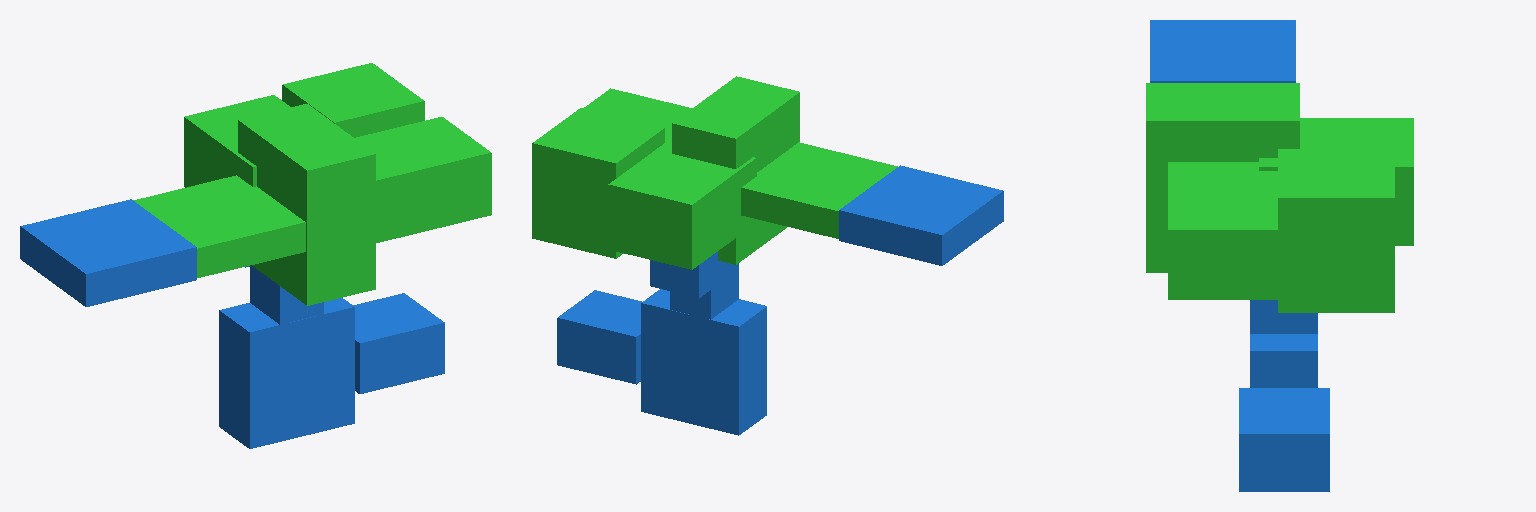
The robot description file, URDF, robot "robot":
<robot name = "robot">
    <link name="Link0">
        <inertial>
            <origin xyz="0 0 2" rpy="0 0 0"/>
            <mass value="0.3253856359606199" />
            <inertia ixx="100" ixy="0" ixz="0" iyy="100" iyz="0" izz="100" />
        </inertial>
        <visual>
            <origin xyz="0 0 2" rpy="0 0 0"/>
            <geometry>
                <box size="1.0353319258563585 1.0608198336998864 0.2962628115581868" />
            </geometry>
            <material name="No Sensor">
                <color rgba="0.184 0.553 0.933 1.0"/>
            </material>
        </visual>
        <collision>
            <origin xyz="0 0 2" rpy="0 0 0"/>
            <geometry>
                <box size="1.0353319258563585 1.0608198336998864 0.2962628115581868" />
            </geometry>
        </collision>
    </link>
    <joint name="Link0_Link1" type="revolute">
       <parent link="Link0"/>
       <child  link="Link1"/>
       <origin rpy="0 0 0" xyz="0.5176659629281792 0 2" />
       <axis xyz="1 0 0"/>
       <limit effort="0.0" lower="-3.14159" upper="3.14159" velocity="0.0"/>
    </joint>
    <link name="Link1">
        <inertial>
            <origin xyz="0.5082244999873465 0 0" rpy="0 0 0"/>
            <mass value="0.2857987086466223" />
            <inertia ixx="100" ixy="0" ixz="0" iyy="100" iyz="0" izz="100" />
        </inertial>
        <visual>
            <origin xyz="0.5082244999873465 0 0" rpy="0 0 0"/>
            <geometry>
                <box size="1.016448999974693 1.0568465468383037 0.2660496773040639" />
            </geometry>
            <material name="Sensor">
                <color rgba="0.239 0.875 0.282 1.0"/>
            </material>
        </visual>
        <collision>
            <origin xyz="0.5082244999873465 0 0" rpy="0 0 0"/>
            <geometry>
                <box size="1.016448999974693 1.0568465468383037 0.2660496773040639" />
            </geometry>
        </collision>
    </link>
    <joint name="Link1_Link2" type="revolute">
       <parent link="Link1"/>
       <child  link="Link2"/>
       <origin rpy="0 0 0" xyz="1.016448999974693 0.0 0.0" />
       <axis xyz="0 1 0"/>
       <limit effort="0.0" lower="-3.14159" upper="3.14159" velocity="0.0"/>
    </joint>
    <link name="Link2">
        <inertial>
            <origin xyz="0.3206639671788665 0.0 0.0" rpy="0 0 0"/>
            <mass value="0.8646040706727207" />
            <inertia ixx="100" ixy="0" ixz="0" iyy="100" iyz="0" izz="100" />
        </inertial>
        <visual>
            <origin xyz="0.3206639671788665 0.0 0.0" rpy="0 0 0"/>
            <geometry>
                <box size="0.641327934357733 1.1155770717294295 1.208474634949778" />
            </geometry>
            <material name="Sensor">
                <color rgba="0.239 0.875 0.282 1.0"/>
            </material>
        </visual>
        <collision>
            <origin xyz="0.3206639671788665 0.0 0.0" rpy="0 0 0"/>
            <geometry>
                <box size="0.641327934357733 1.1155770717294295 1.208474634949778" />
            </geometry>
        </collision>
    </link>
    <joint name="Link2_Link3" type="revolute">
       <parent link="Link2"/>
       <child  link="Link3"/>
       <origin rpy="0 0 0" xyz="0.641327934357733 0.0 0.0" />
       <axis xyz="1 0 0"/>
       <limit effort="0.0" lower="-3.14159" upper="3.14159" velocity="0.0"/>
    </joint>
    <link name="Link3">
        <inertial>
            <origin xyz="0.5847959706585888 0.0 0.0" rpy="0 0 0"/>
            <mass value="0.5219309870200726" />
            <inertia ixx="100" ixy="0" ixz="0" iyy="100" iyz="0" izz="100" />
        </inertial>
        <visual>
            <origin xyz="0.5847959706585888 0.0 0.0" rpy="0 0 0"/>
            <geometry>
                <box size="1.1695919413171776 0.7969879342928875 0.5599212728830081" />
            </geometry>
            <material name="Sensor">
                <color rgba="0.239 0.875 0.282 1.0"/>
            </material>
        </visual>
        <collision>
            <origin xyz="0.5847959706585888 0.0 0.0" rpy="0 0 0"/>
            <geometry>
                <box size="1.1695919413171776 0.7969879342928875 0.5599212728830081" />
            </geometry>
        </collision>
    </link>
    <joint name="Link3_Link4" type="revolute">
       <parent link="Link3"/>
       <child  link="Link4"/>
       <origin rpy="0 0 0" xyz="0.5847959706585888 0.39849396714644375 0.0" />
       <axis xyz="1 0 0"/>
       <limit effort="0.0" lower="-3.14159" upper="3.14159" velocity="0.0"/>
    </joint>
    <link name="Link4">
        <inertial>
            <origin xyz="0.0 0.422995243938256 0.0" rpy="0 0 0"/>
            <mass value="0.6493411461304663" />
            <inertia ixx="100" ixy="0" ixz="0" iyy="100" iyz="0" izz="100" />
        </inertial>
        <visual>
            <origin xyz="0.0 0.422995243938256 0.0" rpy="0 0 0"/>
            <geometry>
                <box size="0.8392649961079146 0.845990487876512 0.914551851390028" />
            </geometry>
            <material name="Sensor">
                <color rgba="0.239 0.875 0.282 1.0"/>
            </material>
        </visual>
        <collision>
            <origin xyz="0.0 0.422995243938256 0.0" rpy="0 0 0"/>
            <geometry>
                <box size="0.8392649961079146 0.845990487876512 0.914551851390028" />
            </geometry>
        </collision>
    </link>
    <joint name="Link4_Link5" type="revolute">
       <parent link="Link4"/>
       <child  link="Link5"/>
       <origin rpy="0 0 0" xyz="-0.4196324980539573 0.422995243938256 0.0" />
       <axis xyz="0 1 0"/>
       <limit effort="0.0" lower="-3.14159" upper="3.14159" velocity="0.0"/>
    </joint>
    <link name="Link5">
        <inertial>
            <origin xyz="-0.4204075123292535 0.0 0.0" rpy="0 0 0"/>
            <mass value="0.5865877202358171" />
            <inertia ixx="100" ixy="0" ixz="0" iyy="100" iyz="0" izz="100" />
        </inertial>
        <visual>
            <origin xyz="-0.4204075123292535 0.0 0.0" rpy="0 0 0"/>
            <geometry>
                <box size="0.840815024658507 1.1180554487074397 0.6239778324297737" />
            </geometry>
            <material name="Sensor">
                <color rgba="0.239 0.875 0.282 1.0"/>
            </material>
        </visual>
        <collision>
            <origin xyz="-0.4204075123292535 0.0 0.0" rpy="0 0 0"/>
            <geometry>
                <box size="0.840815024658507 1.1180554487074397 0.6239778324297737" />
            </geometry>
        </collision>
    </link>
    <joint name="Link5_Link6" type="revolute">
       <parent link="Link5"/>
       <child  link="Link6"/>
       <origin rpy="0 0 0" xyz="-0.4204075123292535 0.0 -0.31198891621488684" />
       <axis xyz="0 0 1"/>
       <limit effort="0.0" lower="-3.14159" upper="3.14159" velocity="0.0"/>
    </joint>
    <link name="Link6">
        <inertial>
            <origin xyz="0.0 0.0 -0.24134430459092143" rpy="0 0 0"/>
            <mass value="0.06449918786695293" />
            <inertia ixx="100" ixy="0" ixz="0" iyy="100" iyz="0" izz="100" />
        </inertial>
        <visual>
            <origin xyz="0.0 0.0 -0.24134430459092143" rpy="0 0 0"/>
            <geometry>
                <box size="0.49401653532549394 0.2704865724393395 0.48268860918184286" />
            </geometry>
            <material name="No Sensor">
                <color rgba="0.184 0.553 0.933 1.0"/>
            </material>
        </visual>
        <collision>
            <origin xyz="0.0 0.0 -0.24134430459092143" rpy="0 0 0"/>
            <geometry>
                <box size="0.49401653532549394 0.2704865724393395 0.48268860918184286" />
            </geometry>
        </collision>
    </link>
    <joint name="Link6_Link7" type="revolute">
       <parent link="Link6"/>
       <child  link="Link7"/>
       <origin rpy="0 0 0" xyz="0.0 -0.13524328621966974 -0.24134430459092143" />
       <axis xyz="0 1 0"/>
       <limit effort="0.0" lower="-3.14159" upper="3.14159" velocity="0.0"/>
    </joint>
    <link name="Link7">
        <inertial>
            <origin xyz="0.0 -0.24408019803081032 0.0" rpy="0 0 0"/>
            <mass value="0.22724174192806587" />
            <inertia ixx="100" ixy="0" ixz="0" iyy="100" iyz="0" izz="100" />
        </inertial>
        <visual>
            <origin xyz="0.0 -0.24408019803081032 0.0" rpy="0 0 0"/>
            <geometry>
                <box size="0.41160164914472763 0.48816039606162065 1.1309631663852349" />
            </geometry>
            <material name="No Sensor">
                <color rgba="0.184 0.553 0.933 1.0"/>
            </material>
        </visual>
        <collision>
            <origin xyz="0.0 -0.24408019803081032 0.0" rpy="0 0 0"/>
            <geometry>
                <box size="0.41160164914472763 0.48816039606162065 1.1309631663852349" />
            </geometry>
        </collision>
    </link>
    <joint name="Link7_Link8" type="revolute">
       <parent link="Link7"/>
       <child  link="Link8"/>
       <origin rpy="0 0 0" xyz="0.0 -0.24408019803081032 -0.5654815831926174" />
       <axis xyz="0 1 0"/>
       <limit effort="0.0" lower="-3.14159" upper="3.14159" velocity="0.0"/>
    </joint>
    <link name="Link8">
        <inertial>
            <origin xyz="0.0 0.0 -0.5215271360035073" rpy="0 0 0"/>
            <mass value="0.5051620758886588" />
            <inertia ixx="100" ixy="0" ixz="0" iyy="100" iyz="0" izz="100" />
        </inertial>
        <visual>
            <origin xyz="0.0 0.0 -0.5215271360035073" rpy="0 0 0"/>
            <geometry>
                <box size="0.9815994323831607 0.49338908152312255 1.0430542720070146" />
            </geometry>
            <material name="No Sensor">
                <color rgba="0.184 0.553 0.933 1.0"/>
            </material>
        </visual>
        <collision>
            <origin xyz="0.0 0.0 -0.5215271360035073" rpy="0 0 0"/>
            <geometry>
                <box size="0.9815994323831607 0.49338908152312255 1.0430542720070146" />
            </geometry>
        </collision>
    </link>
    <joint name="Link8_Link9" type="revolute">
       <parent link="Link8"/>
       <child  link="Link9"/>
       <origin rpy="0 0 0" xyz="0.49079971619158036 0.0 -0.5215271360035073" />
       <axis xyz="0 1 0"/>
       <limit effort="0.0" lower="-3.14159" upper="3.14159" velocity="0.0"/>
    </joint>
    <link name="Link9">
        <inertial>
            <origin xyz="0.3970604265922913 0.0 0.0" rpy="0 0 0"/>
            <mass value="0.23762312780509642" />
            <inertia ixx="100" ixy="0" ixz="0" iyy="100" iyz="0" izz="100" />
        </inertial>
        <visual>
            <origin xyz="0.3970604265922913 0.0 0.0" rpy="0 0 0"/>
            <geometry>
                <box size="0.7941208531845826 0.6564862444749718 0.45580226293412685" />
            </geometry>
            <material name="No Sensor">
                <color rgba="0.184 0.553 0.933 1.0"/>
            </material>
        </visual>
        <collision>
            <origin xyz="0.3970604265922913 0.0 0.0" rpy="0 0 0"/>
            <geometry>
                <box size="0.7941208531845826 0.6564862444749718 0.45580226293412685" />
            </geometry>
        </collision>
    </link>
</robot>

--- What the picture shows (computed from the rendered views, not written in the file) ---
The picture shows the robot from 3 angles, left to right: view 1: azimuth 30°, elevation 25°; view 2: azimuth 150°, elevation 25°; view 3: azimuth 270°, elevation 25°; orthographic projection.
Robot: robot — 10 links, 9 joints (9 revolute); root link Link0; default pose: every joint at zero.
Visible links, largest first — view 1: Link2, Link8, Link0, Link3, Link1, Link9, Link4, Link5, Link7; view 2: Link8, Link5, Link4, Link0, Link2, Link1, Link9, Link3, Link7, Link6; view 3: Link4, Link3, Link2, Link9, Link0, Link5, Link8, Link7.
Link boxes in pixels (x1,y1,x2,y2): Link2: (238, 104, 375, 305); Link8: (219, 298, 354, 448); Link0: (20, 199, 196, 306); Link3: (355, 117, 491, 242); Link1: (133, 175, 305, 277); Link9: (353, 293, 444, 393); Link4: (282, 63, 424, 137); Link5: (184, 95, 290, 187); Link7: (250, 265, 323, 324); Link8: (641, 289, 766, 435); Link5: (608, 138, 756, 269); Link4: (532, 108, 664, 258); Link0: (839, 165, 1003, 265); Link2: (672, 76, 799, 264); Link1: (741, 142, 897, 238); Link9: (557, 290, 641, 384); Link3: (584, 88, 691, 142); Link7: (670, 252, 738, 319); Link6: (650, 254, 714, 297); Link4: (1278, 149, 1394, 312); Link3: (1168, 162, 1277, 299); Link2: (1146, 83, 1299, 272); Link9: (1239, 388, 1329, 491); Link0: (1150, 20, 1295, 82); Link5: (1259, 118, 1413, 245); Link8: (1250, 334, 1317, 387); Link7: (1250, 300, 1317, 333).
Bounding box of the posed robot: 3.86 × 1.94 × 2.77 m (x, y, z).
Geometry: primitives only (box / cylinder / sphere), no mesh files.